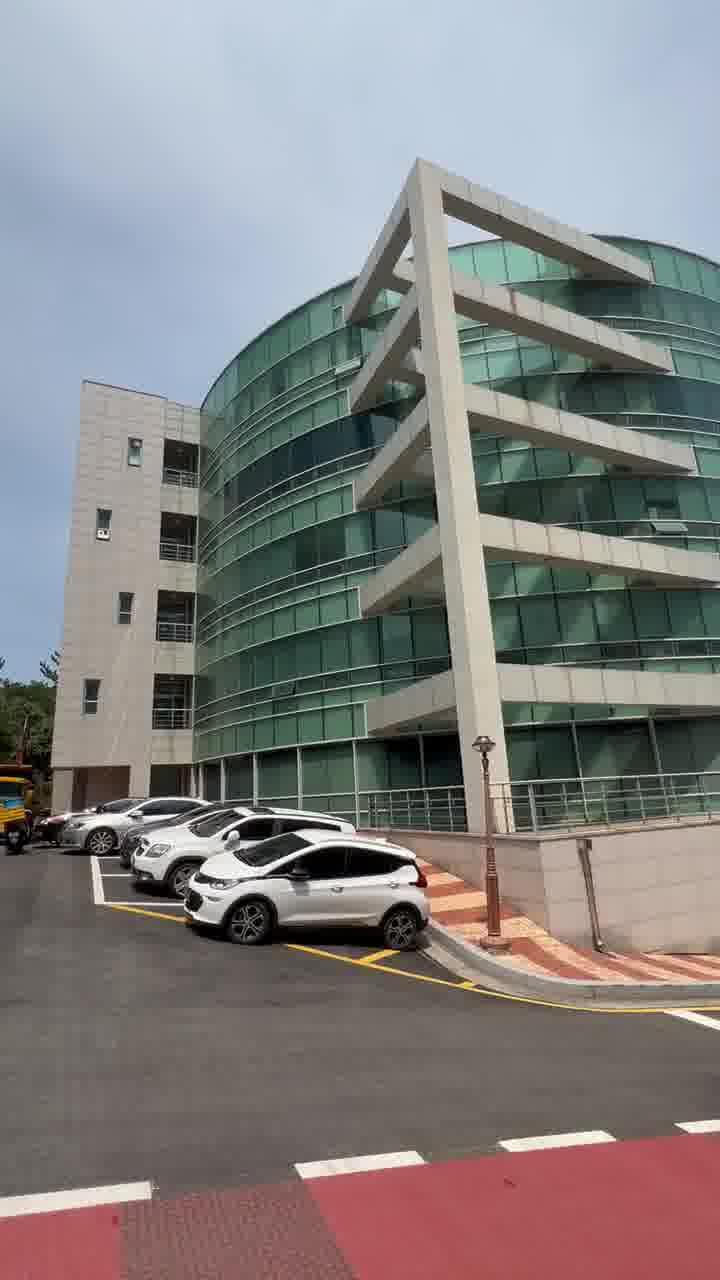building: (80, 164, 720, 808)
